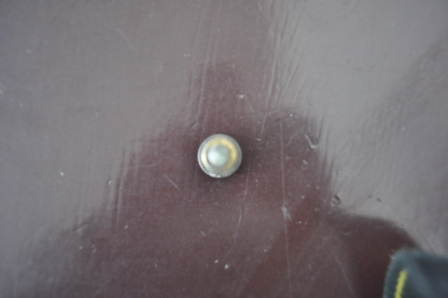NUT (MT): (196, 133, 244, 179)
